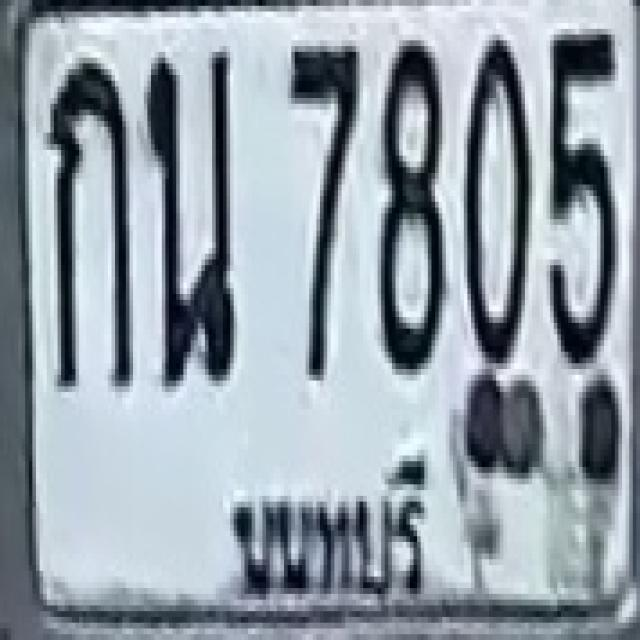0: (462, 35, 530, 369)
5: (546, 29, 615, 363)
7: (288, 43, 360, 372), (288, 41, 360, 334), (288, 40, 360, 277)
8: (377, 37, 446, 372)
A01: (47, 58, 133, 392)
A25: (146, 49, 236, 383), (144, 49, 234, 355), (149, 116, 236, 387)
NBI: (223, 446, 434, 605)
